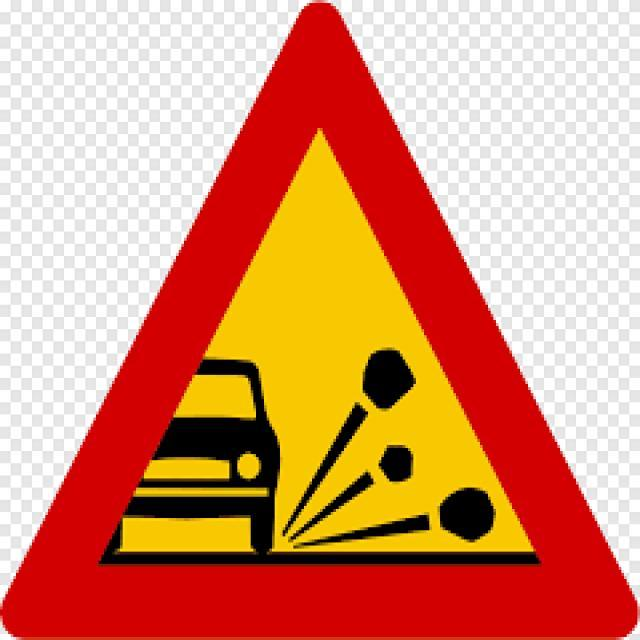loose gravel: (25, 20, 610, 617)
